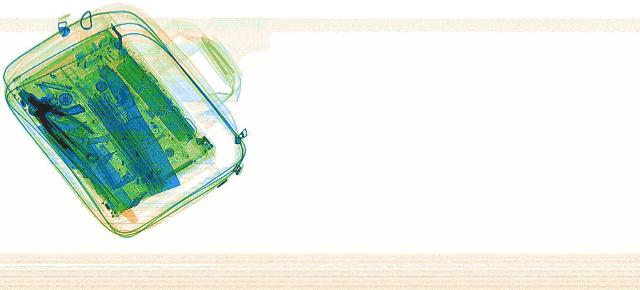Gun: (5, 81, 90, 121)
Knife: (72, 63, 185, 193)
Pliers: (1, 90, 101, 144)
